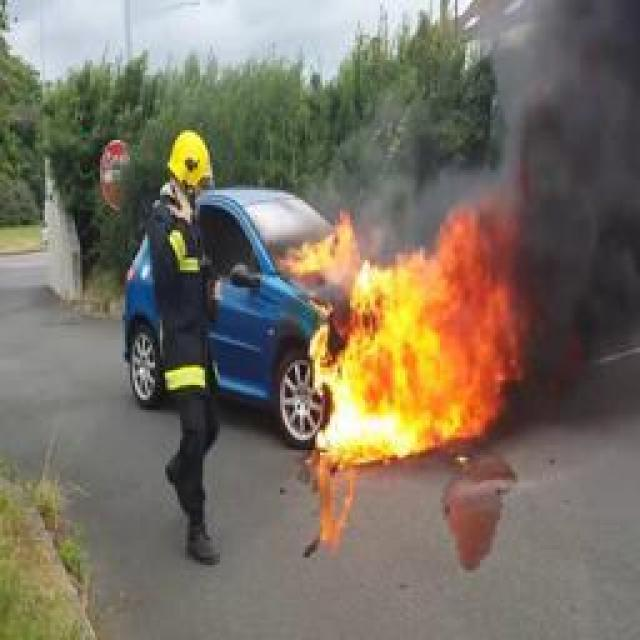Fire: (281, 196, 524, 464)
